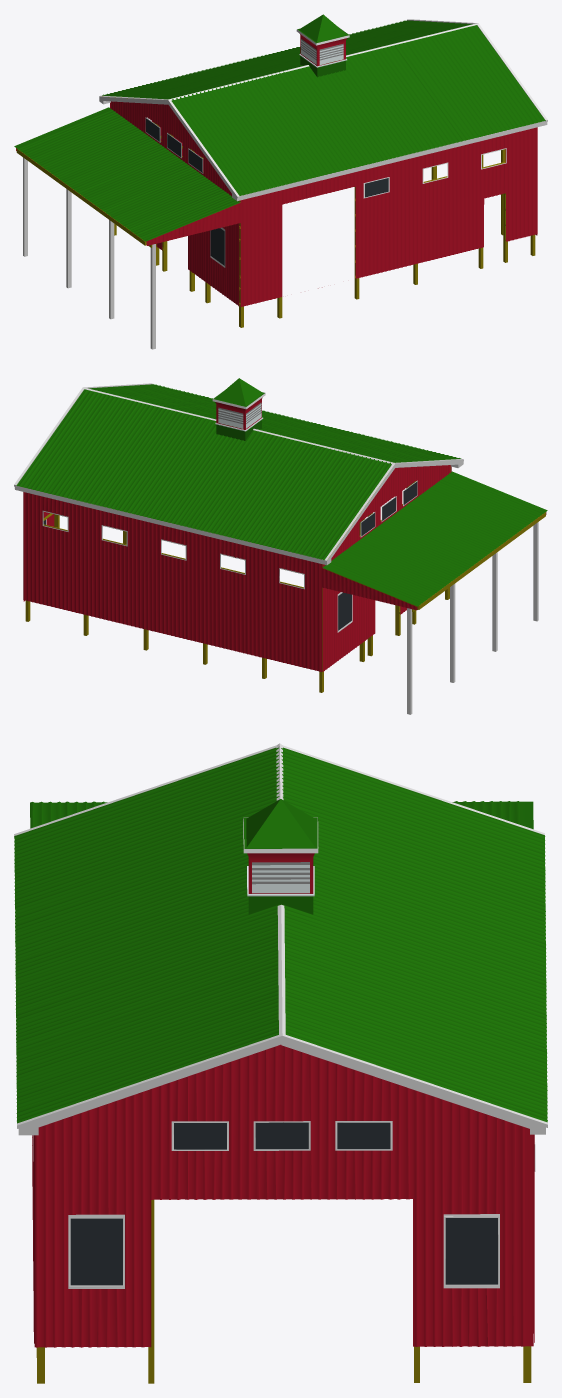
Rendered from machine_shed.glb.
3 views of the same model, one above another, from view 1: azimuth 30°, elevation 25°; view 2: azimuth 150°, elevation 25°; view 3: azimuth 270°, elevation 25° (orthographic). The views are drawn at different scales.
Visible parts, largest first — view 1: body; view 2: body; view 3: body.
Boxes of the visible parts, x1,y1,x2,y2 form: body: [14, 14, 547, 349]; body: [14, 378, 547, 714]; body: [14, 743, 547, 1383].
Size of the model in its own units: 10.87 by 6 by 6.52.
